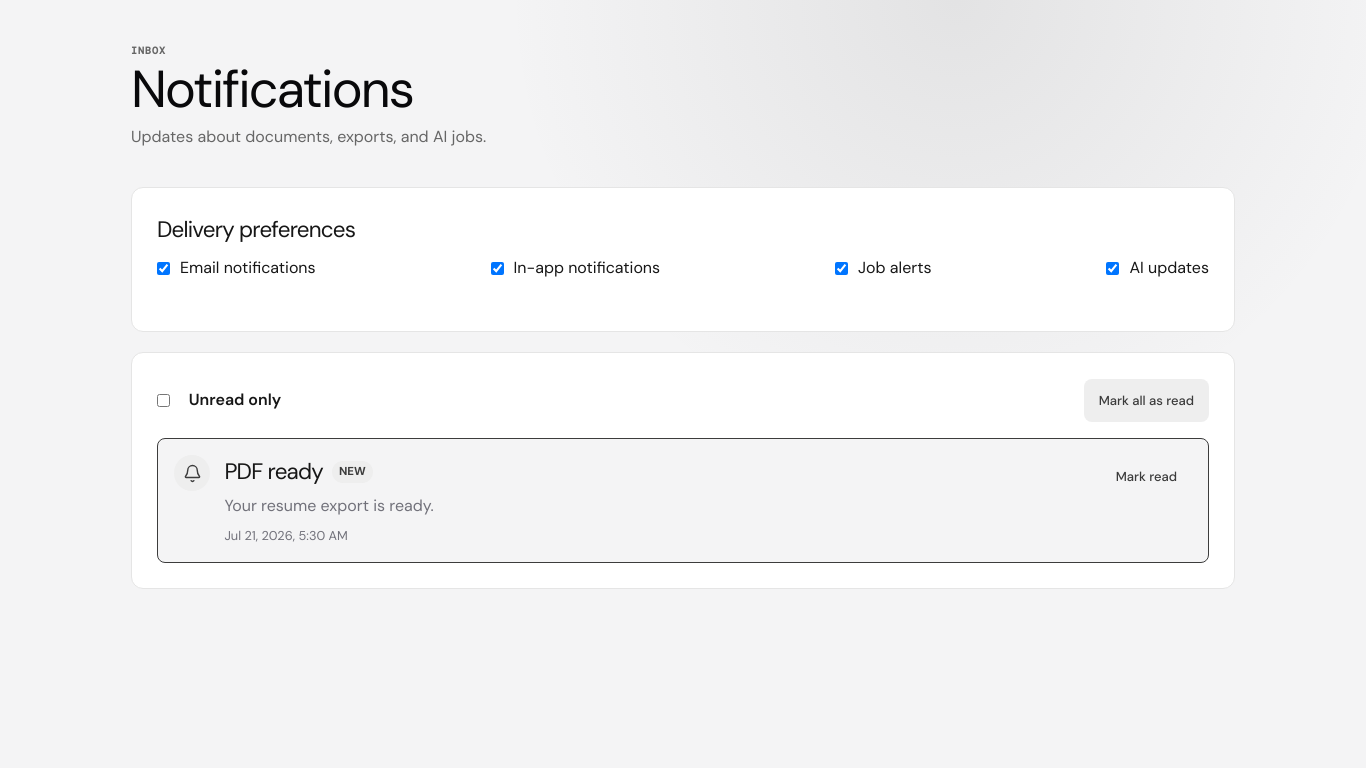
it: NotificationsPanel › shows an error when updating delivery preferences fails
The image size is (1366, 768).
Click the checkbox labelled "Email notifications".
click(164, 268)  # box left=157, top=262, right=170, bottom=275
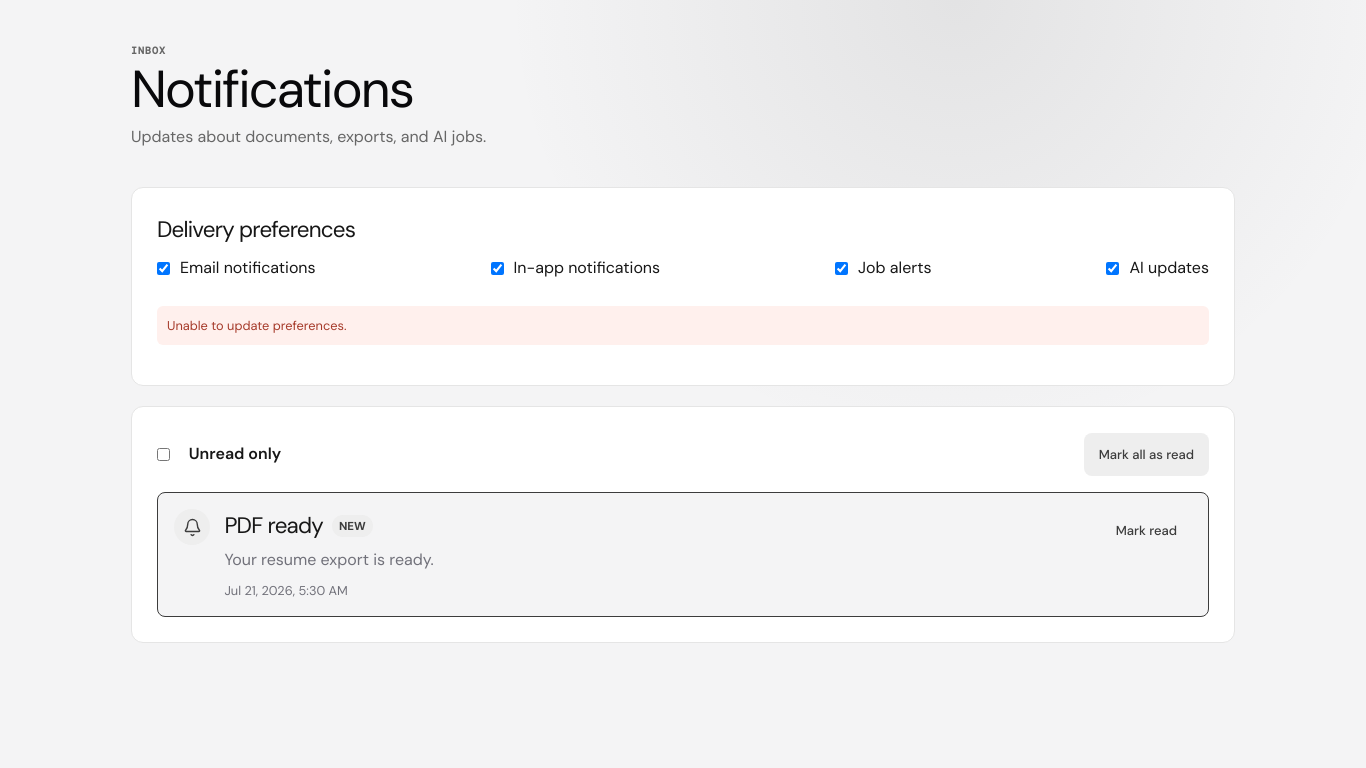
expect the message reads "Unable to update preferences.": met, box left=167, top=317, right=346, bottom=334
